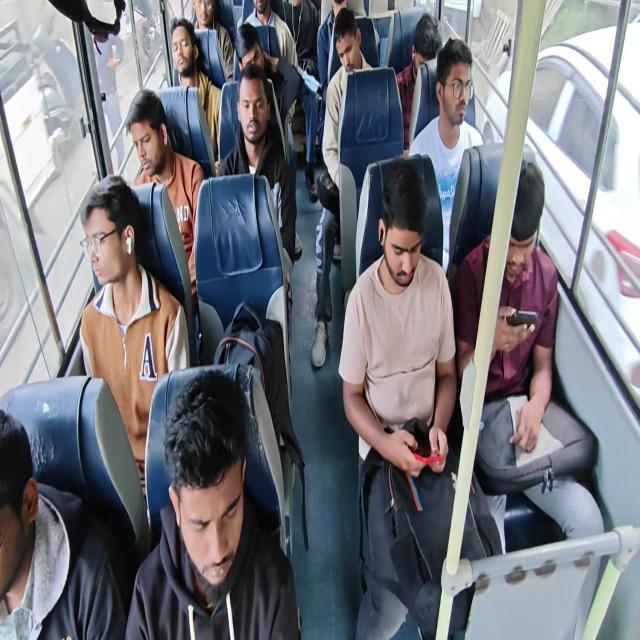person: (170, 394, 249, 588), (0, 419, 46, 598), (488, 171, 548, 271), (381, 184, 424, 289), (85, 199, 134, 275), (128, 100, 164, 174), (234, 73, 268, 146), (439, 51, 472, 122), (412, 16, 442, 84), (188, 0, 226, 52), (231, 27, 264, 84), (167, 25, 196, 78), (337, 19, 362, 78), (244, 0, 270, 18)
